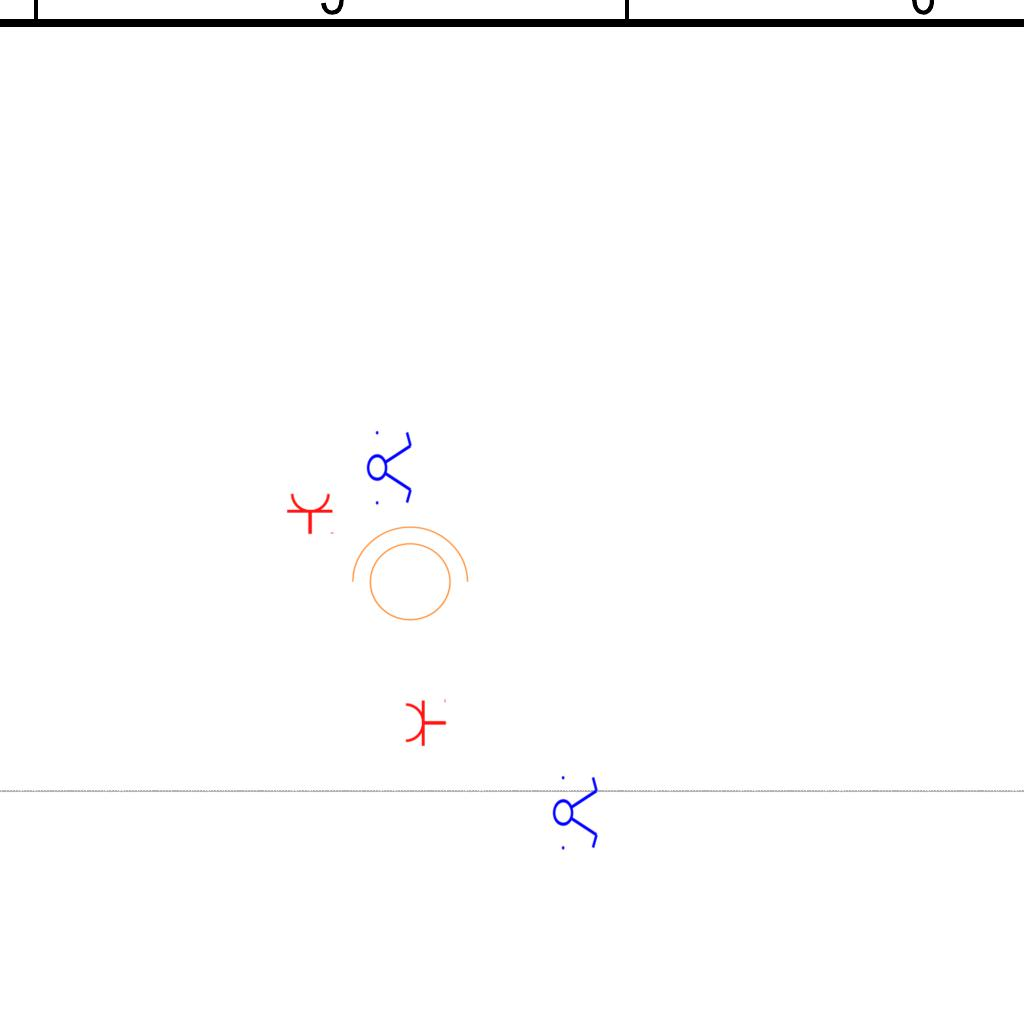Scheinwerfer_fuer_Alarmbeleuchtung: (341, 521, 473, 633)
Schukosteckdose_einfach: (404, 697, 447, 747), (286, 492, 336, 535)
Serienschalter: (366, 425, 414, 509), (552, 770, 600, 854)
